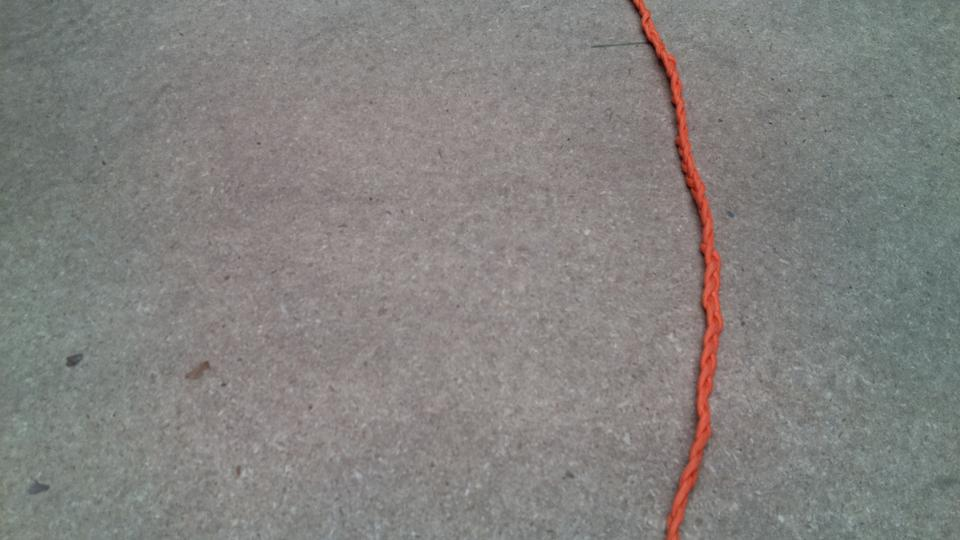rope: (623, 1, 730, 540)
